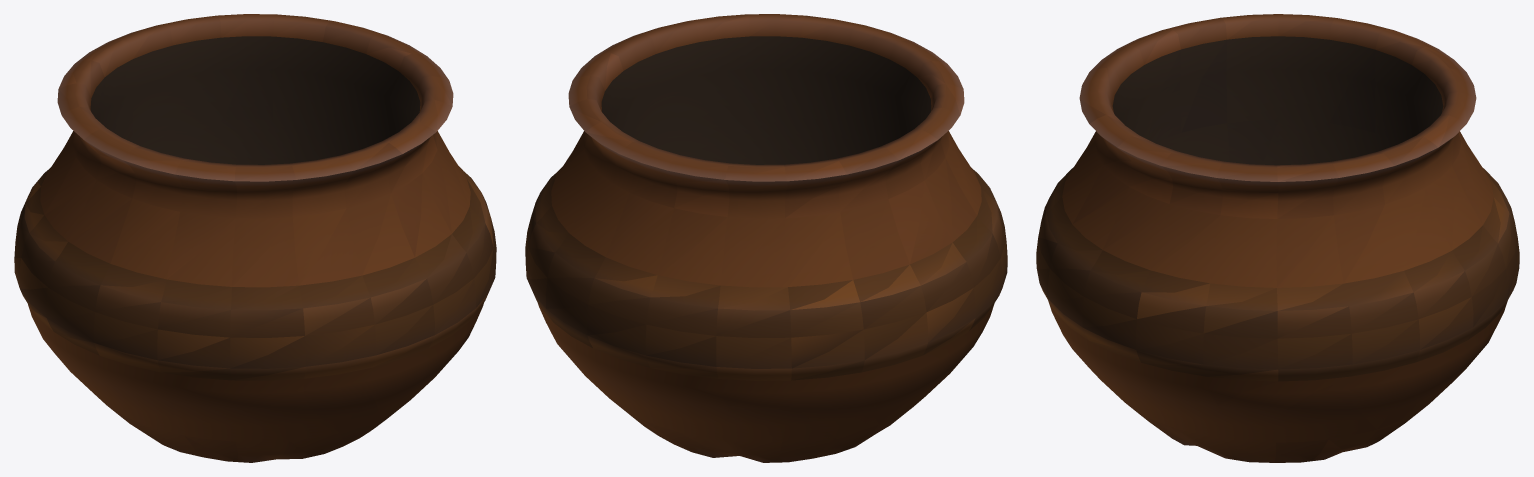
File: prop_vase_a.glb
3 renders of one model, left to right at view 1: azimuth 30°, elevation 25°; view 2: azimuth 150°, elevation 25°; view 3: azimuth 270°, elevation 25°, orthographic.
Parts seen in each view (by area): view 1: refined; view 2: refined; view 3: refined.
Boxes of the visible parts, box(x1,y1,x2,y2) form: refined: box(14, 14, 496, 462); refined: box(525, 14, 1007, 462); refined: box(1036, 14, 1519, 462).
Size of the model in its own units: 0.6947 by 0.5163 by 0.6947.
